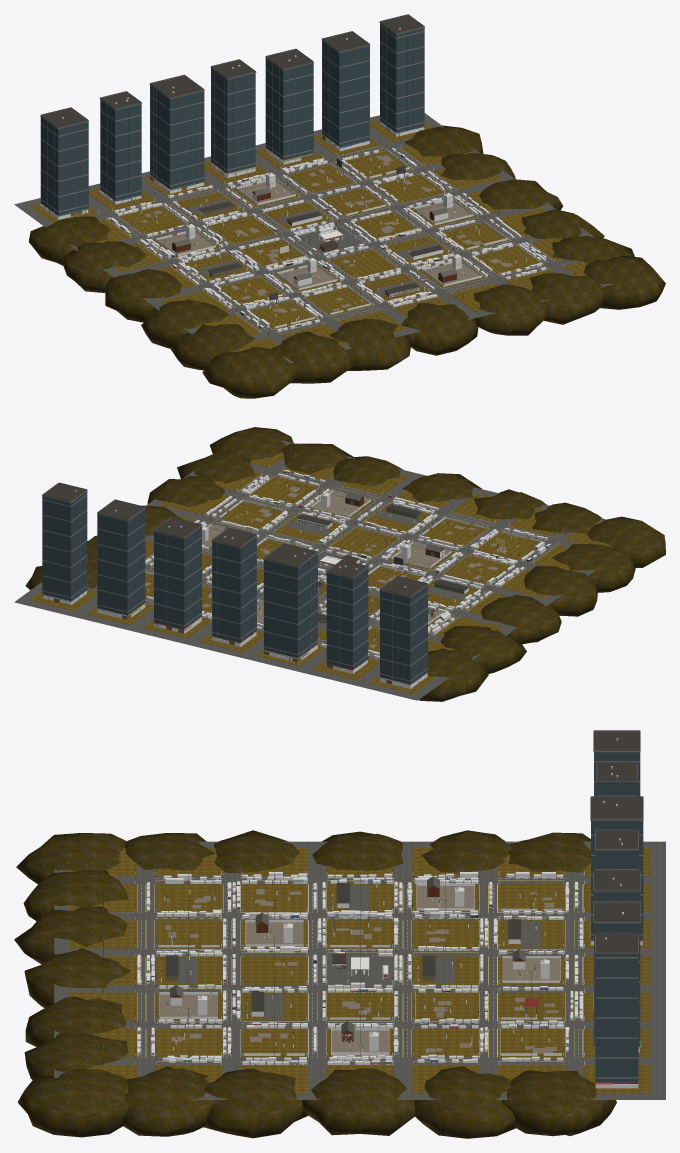
The model's file is map_highway.glb.
The picture shows the model from 3 angles, top to bottom: view 1: azimuth 30°, elevation 25°; view 2: azimuth 150°, elevation 25°; view 3: azimuth 270°, elevation 25°; orthographic projection. The views are drawn at different scales.
Visible parts, largest first — view 1: Ground_hills, Ground_grass, Ground_road, Ring_-56_-168, Ground_lot, Ring_112_-168, Ring_56_-168, Ring_168_-168, Ring_-168_-168, Ring_0_-168, Ring_-112_-168, Buildings (+4 smaller); view 2: Ground_hills, Ground_grass, Ground_road, Ring_-56_-168, Ring_112_-168, Ring_168_-168, Ring_56_-168, Ring_-168_-168, Ring_0_-168, Ring_-112_-168, Ground_lot, Buildings (+4 smaller); view 3: Ground_hills, Ground_grass, Ground_road, Ground_lot, Ring_168_-168, Ground_markings, Buildings, Ring_-56_-168, Ring_112_-168, Ring_-168_-168, Ring_0_-168, Ring_56_-168 (+5 smaller).
Boxes of the visible parts, bbox=[...] form: Ground_hills: bbox=[28, 125, 665, 398]; Ground_grass: bbox=[30, 120, 609, 358]; Ground_road: bbox=[14, 113, 612, 363]; Ring_-56_-168: bbox=[149, 74, 204, 192]; Ground_lot: bbox=[142, 155, 512, 312]; Ring_112_-168: bbox=[321, 31, 370, 149]; Ring_56_-168: bbox=[265, 48, 313, 164]; Ring_168_-168: bbox=[379, 14, 424, 136]; Ring_-168_-168: bbox=[40, 107, 88, 217]; Ring_0_-168: bbox=[210, 59, 256, 176]; Ring_-112_-168: bbox=[100, 91, 141, 204]; Buildings: bbox=[172, 187, 457, 297]; Ground_hills: bbox=[25, 427, 665, 701]; Ground_grass: bbox=[30, 452, 613, 693]; Ground_road: bbox=[14, 440, 622, 700]; Ring_-56_-168: bbox=[263, 543, 318, 662]; Ring_112_-168: bbox=[97, 499, 145, 619]; Ring_168_-168: bbox=[42, 482, 87, 605]; Ring_56_-168: bbox=[153, 517, 202, 633]; Ring_-168_-168: bbox=[379, 576, 428, 687]; Ring_0_-168: bbox=[211, 527, 256, 645]; Ring_-112_-168: bbox=[326, 559, 368, 671]; Ground_lot: bbox=[145, 486, 507, 647]; Buildings: bbox=[223, 493, 469, 624]; Ground_hills: bbox=[14, 830, 616, 1138]; Ground_grass: bbox=[69, 848, 650, 1093]; Ground_road: bbox=[54, 841, 665, 1099]; Ground_lot: bbox=[160, 885, 560, 1053]; Ring_168_-168: bbox=[594, 933, 638, 1087]; Ground_markings: bbox=[137, 878, 583, 1061]; Buildings: bbox=[165, 876, 525, 1041]; Ring_-56_-168: bbox=[590, 796, 643, 941]; Ring_112_-168: bbox=[592, 901, 641, 1052]; Ring_-168_-168: bbox=[593, 730, 640, 796]; Ring_0_-168: bbox=[595, 829, 638, 869]; Ring_56_-168: bbox=[592, 870, 641, 1011].
Bounding box in the file's own units: 452 × 125 × 426.
58 materials, 14 textured.
